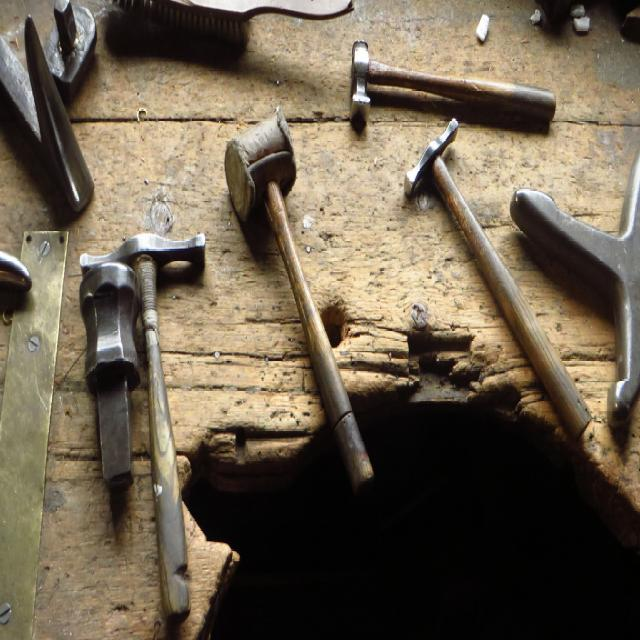hammer: (402, 119, 591, 445), (222, 110, 374, 494), (82, 227, 204, 616), (351, 40, 556, 119)
